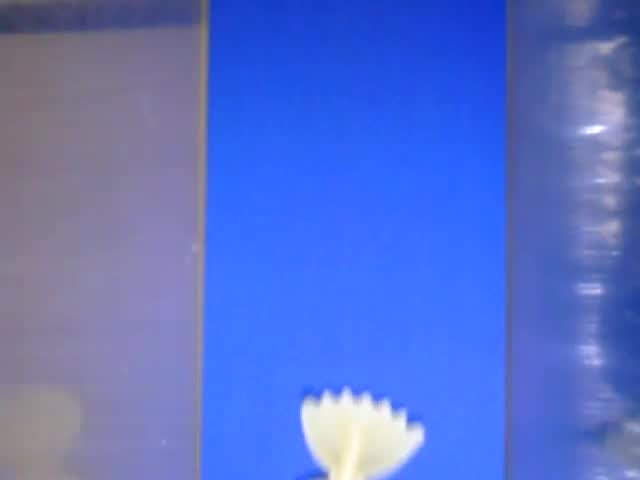farfalle: (298, 386, 427, 480)
